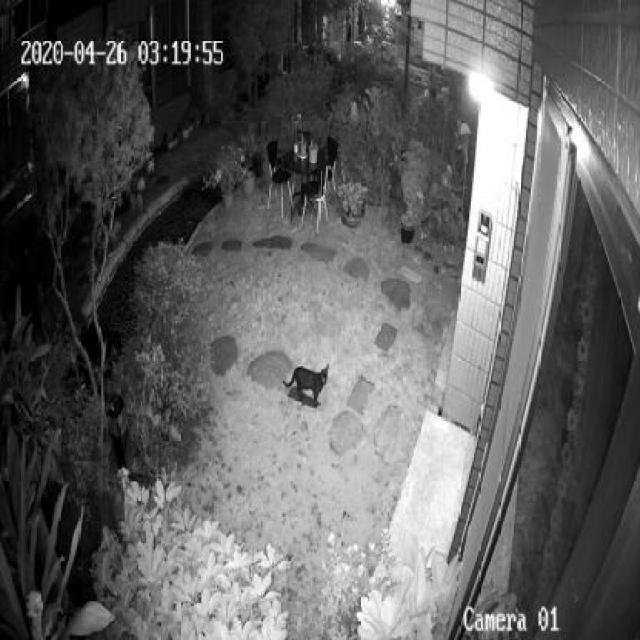animals: (280, 358, 334, 417)
